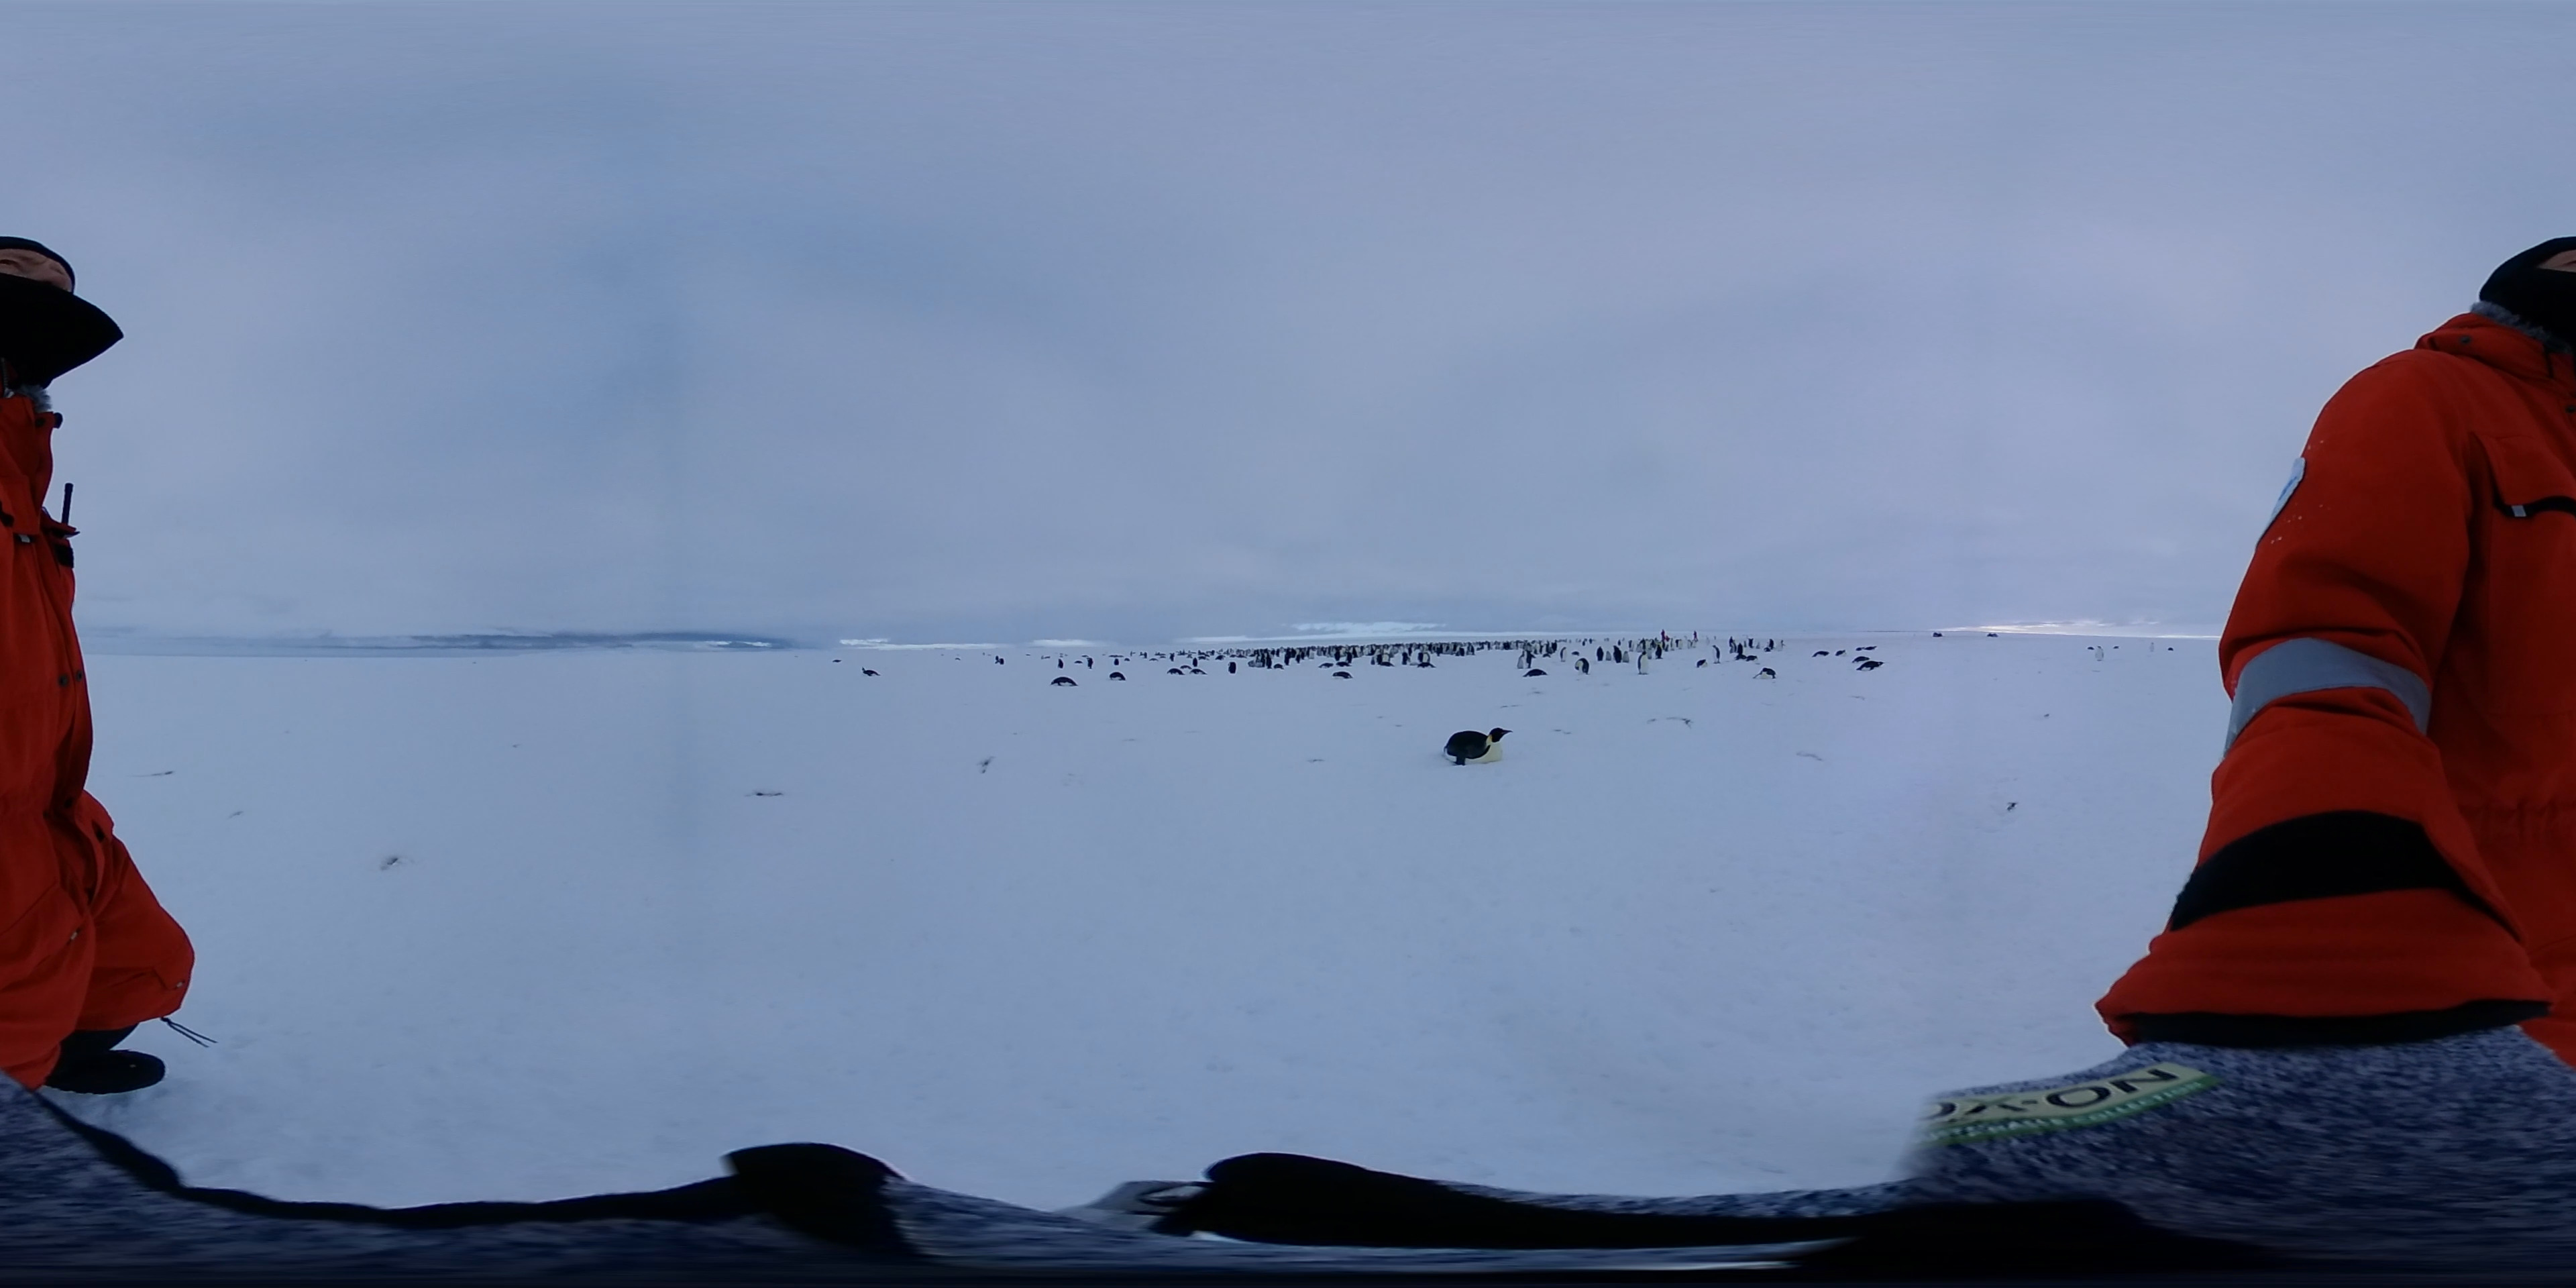adult_standing_penguin: (1638, 651, 1649, 678), (2091, 644, 2106, 664)
adult_toboggan_penguin: (1436, 721, 1515, 770), (1048, 675, 1079, 690), (1521, 665, 1548, 682), (1853, 659, 1884, 672), (1751, 667, 1778, 680), (1104, 670, 1124, 683), (1163, 667, 1184, 677), (1188, 667, 1209, 677), (1329, 670, 1352, 678)
researcher: (2137, 212, 2576, 1104), (0, 230, 212, 1102)
